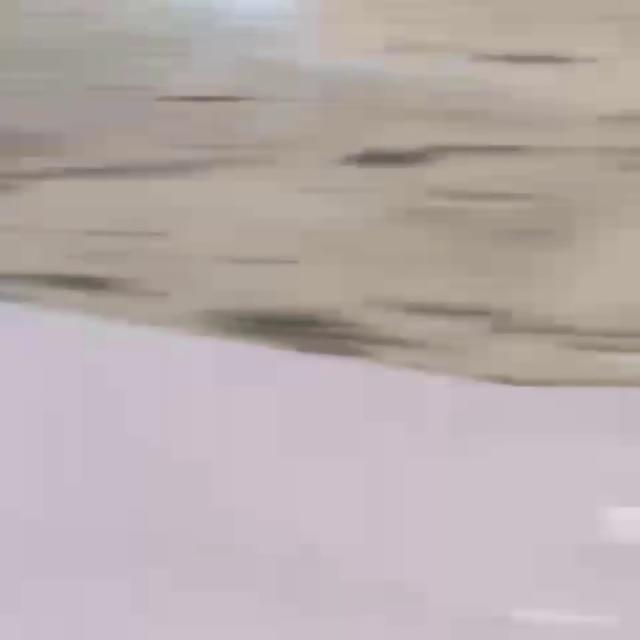road: (0, 303, 637, 640)
